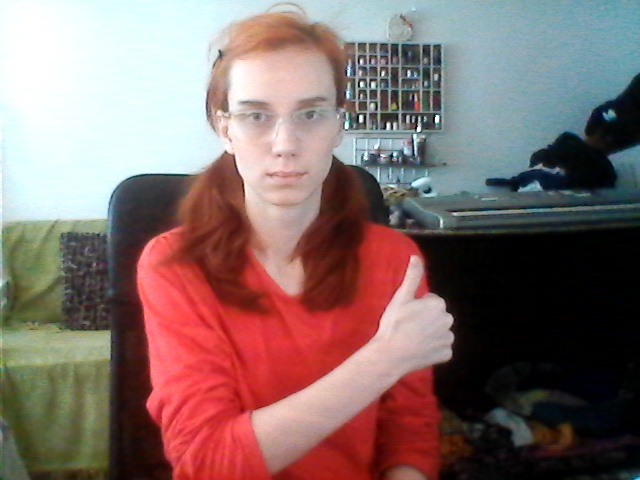jeden: (371, 254, 460, 384)
